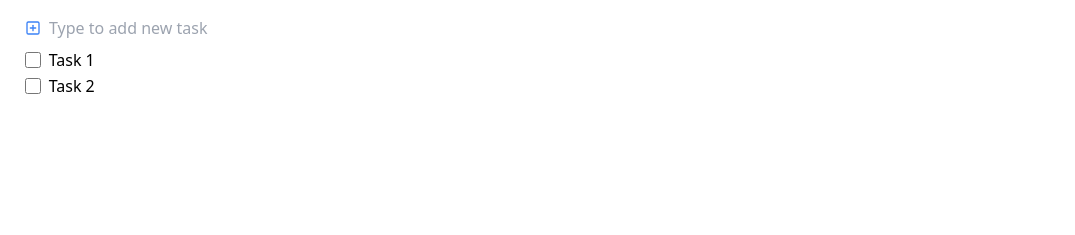
<App/> › Edit a task › can remove a task
Click the element named "task-item": x=72, y=60 [49, 49, 95, 71]
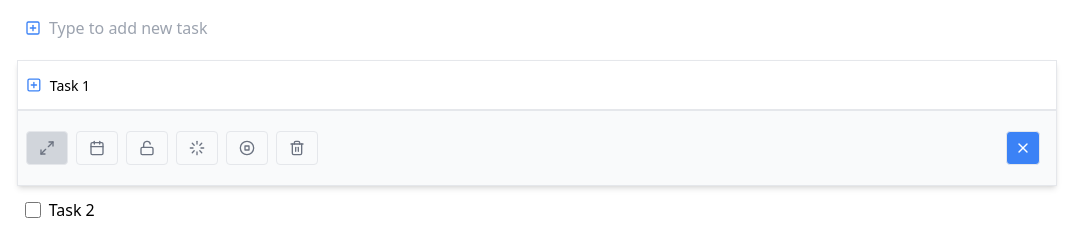
Click the 6th button named "Remove": x=297, y=148 [276, 131, 318, 165]
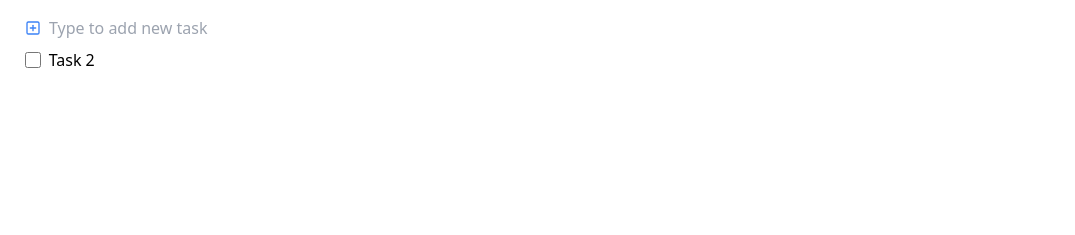
Expected: the text "Type to add new task" is shown, [49, 16, 208, 40]
Expected: the number of list items is 1, [25, 49, 95, 71]
